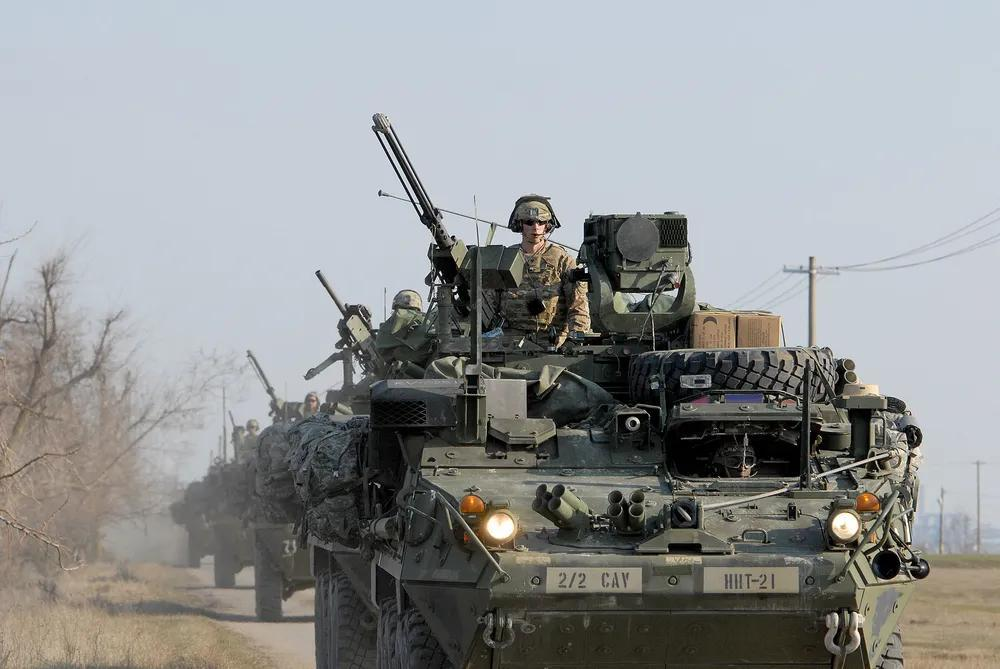MIL_IFV: (305, 210, 921, 664)
